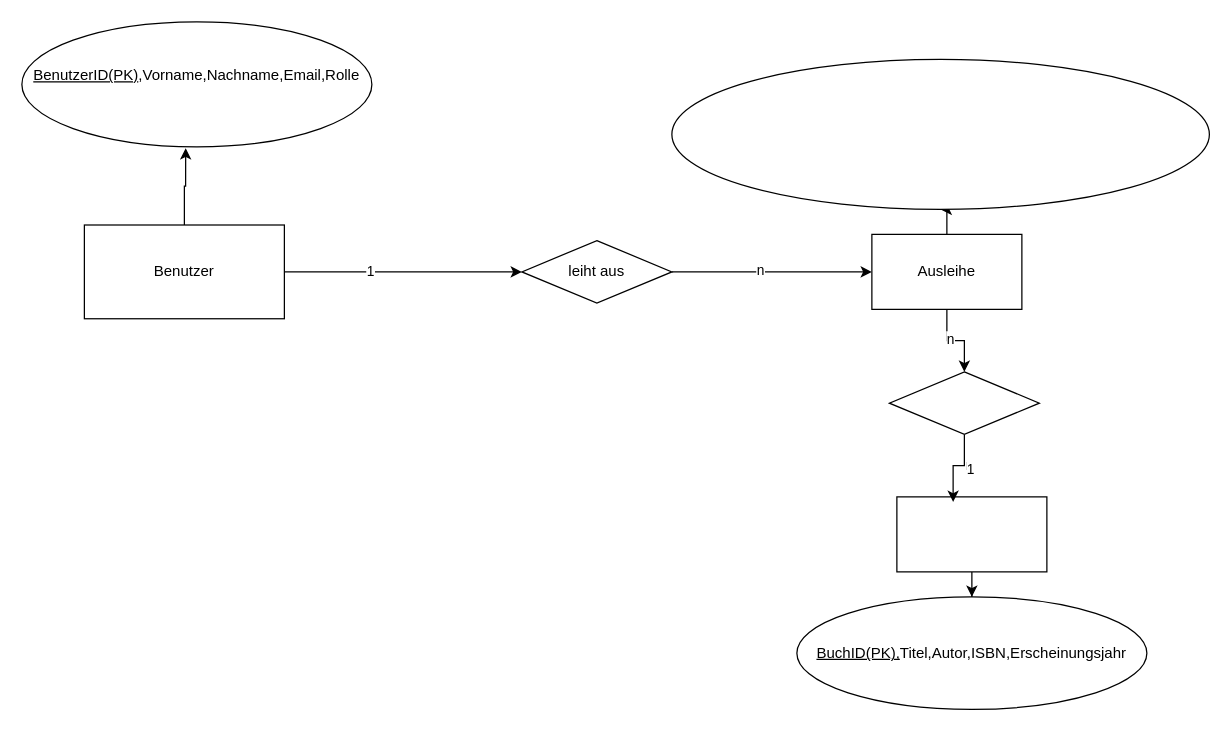
The diagram is 1231 pixels wide and 731 high, and some of its shapes have lost their labels. The shapes that lost their labels are listed below. From the top down, each one's centre as x and y in pixels, then its label:
the point at 940,133: AusleiheID(PK),BenutzerID(FK),BuchID(FK), DatumAusleihe,DatumRückgabe
the point at 963,402: enthält
the point at 971,534: Buch
